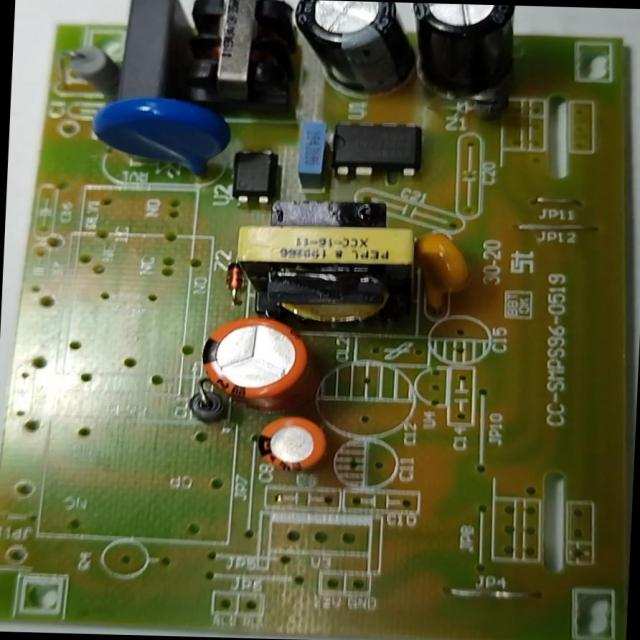Cap1: (196, 310, 312, 412)
Cap2: (250, 412, 331, 481)
Cap3: (285, 0, 414, 98)
Cap4: (401, 3, 518, 97)
MOSFET: (327, 117, 426, 182)
Mov: (79, 94, 235, 182)
Resistor: (59, 37, 125, 97)
Transformer: (228, 195, 426, 332), (169, 0, 301, 119)
